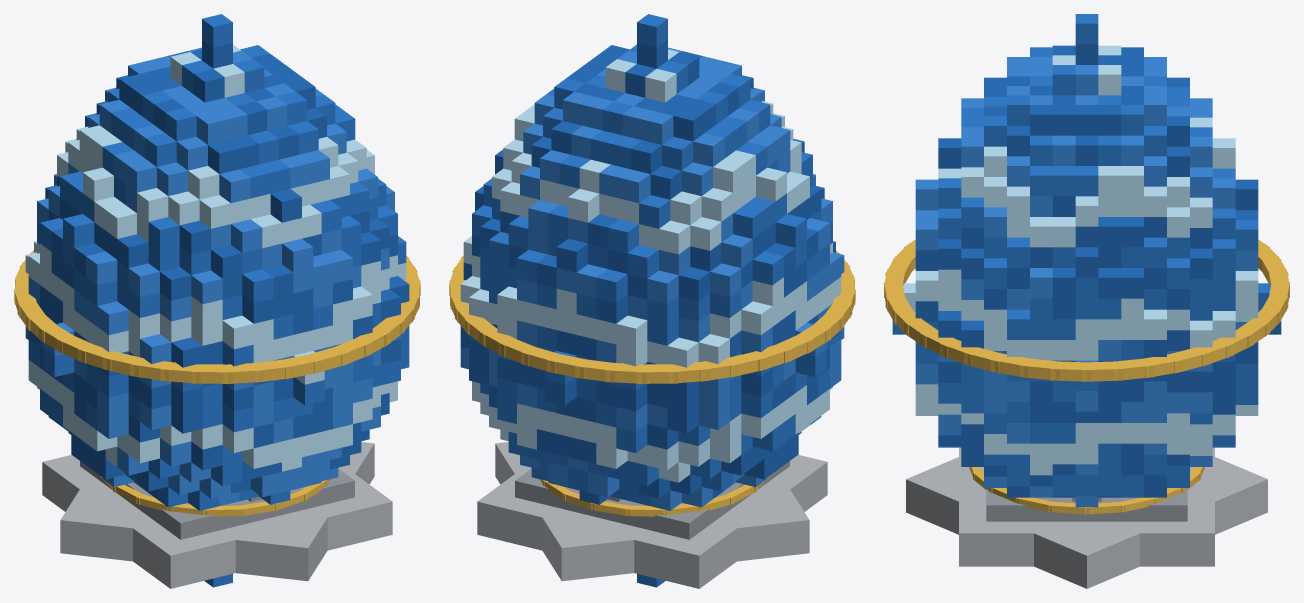
Rendered from egg_pc_oceano.glb.
The picture shows the model from 3 angles, left to right: view 1: azimuth 30°, elevation 25°; view 2: azimuth 150°, elevation 25°; view 3: azimuth 270°, elevation 25°; orthographic projection.
Visible parts, largest first — view 1: shell_geo, root_geo, egg_geo; view 2: shell_geo, root_geo, egg_geo; view 3: shell_geo, root_geo, egg_geo.
Boxes of the visible parts, left/top/right/bottom form: shell_geo: left=25, top=14, right=409, bottom=587; root_geo: left=42, top=442, right=392, bottom=588; egg_geo: left=14, top=250, right=420, bottom=383; shell_geo: left=460, top=14, right=844, bottom=587; root_geo: left=477, top=442, right=827, bottom=588; egg_geo: left=449, top=250, right=855, bottom=383; shell_geo: left=892, top=14, right=1281, bottom=507; root_geo: left=906, top=447, right=1267, bottom=588; egg_geo: left=884, top=239, right=1289, bottom=381.
Size of the model in its own units: 4.44 by 6.75 by 4.44.
